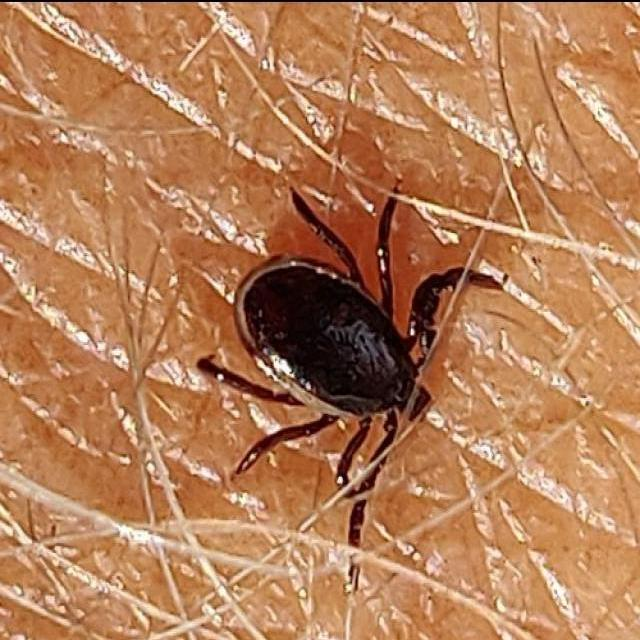Ixodes Ricinus-M: (196, 185, 504, 508)
